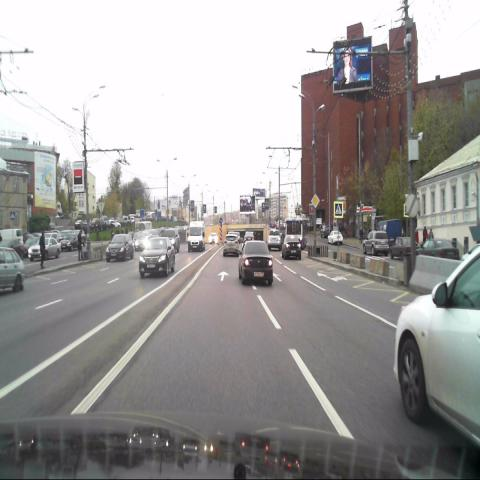3_31: (406, 194, 418, 216)
